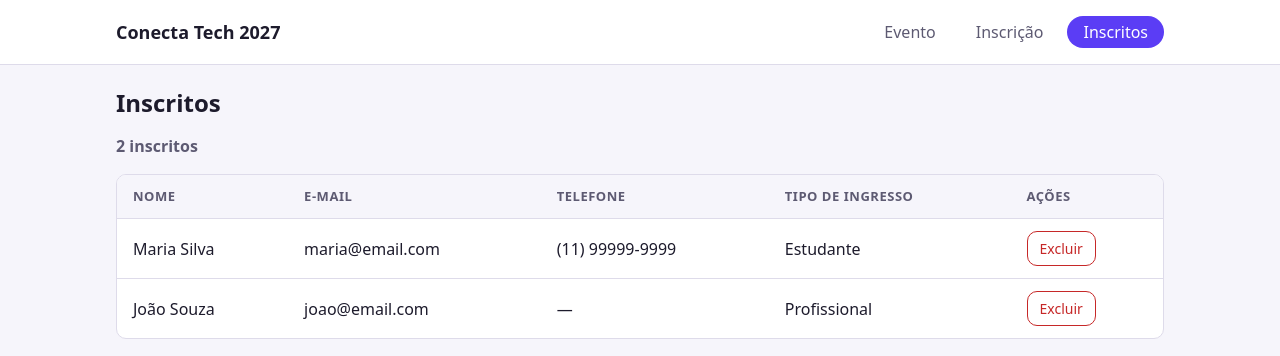
Test: tela de inscritos › exclusão › REQ-FE-26: ao confirmar, remove a linha sem recarregar e atualiza o contador
Click the button "Excluir" in the row of "Maria Silva".
click(1061, 249)  # box [1026, 231, 1096, 266]
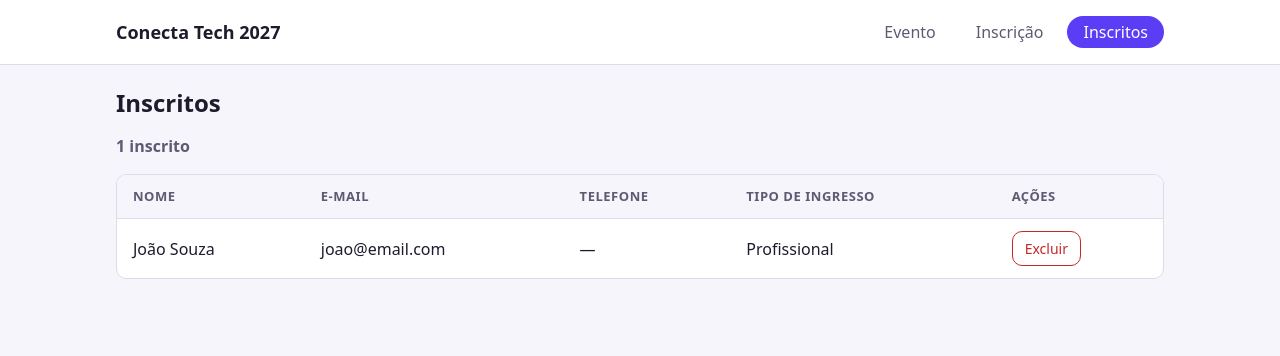
Expected: the text "1 inscrito" is shown, [116, 135, 190, 157]
